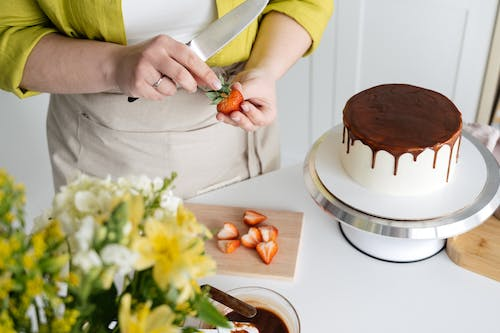knife: (127, 0, 270, 103)
